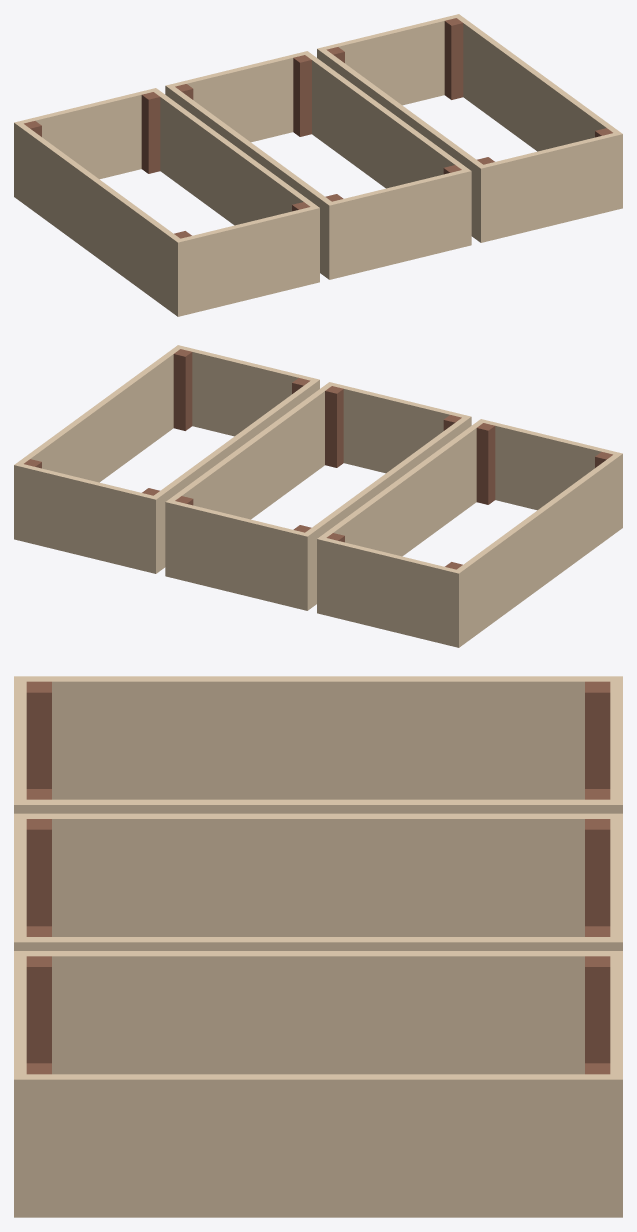
The model's file is Garden_Beds_01.glb.
3 views of the same model, one above another, from view 1: azimuth 30°, elevation 25°; view 2: azimuth 150°, elevation 25°; view 3: azimuth 270°, elevation 25° (orthographic). The views are drawn at different scales.
Visible parts, largest first — view 1: 2x6in Board.034, 2x6in Board.142, 2x6in Board.036, 2x6in Board.158, 2x6in Board.022, 2x6in Board.026, 2x6in Board.030, 2x6in Board.143, 2x6in Board.159, 2x6in Board.037, 2x6in Board.140, 2x6in Board.156 (+33 smaller); view 2: 2x6in Board.034, 2x6in Board.142, 2x6in Board.036, 2x6in Board.158, 2x6in Board.022, 2x6in Board.026, 2x6in Board.030, 2x6in Board.141, 2x6in Board.157, 2x6in Board.035, 2x6in Board.140, 2x6in Board.156 (+33 smaller); view 3: 2x6in Board.158, 2x6in Board.034, 2x6in Board.140, 2x6in Board.156, 2x6in Board.146, 2x6in Board.150, 2x6in Board.154, 2x6in Board.026, 2x6in Board.152, 2x6in Board.030, 2x6in Board.132, 2x6in Board.136 (+18 smaller).
Part boxes in pixels (x1=…): 2x6in Board.034: x1=14, y1=121, x2=183, y2=260; 2x6in Board.142: x1=302, y1=51, x2=471, y2=190; 2x6in Board.036: x1=150, y1=88, x2=319, y2=227; 2x6in Board.158: x1=453, y1=14, x2=622, y2=153; 2x6in Board.022: x1=14, y1=178, x2=183, y2=316; 2x6in Board.026: x1=14, y1=160, x2=183, y2=298; 2x6in Board.030: x1=14, y1=141, x2=183, y2=279; 2x6in Board.143: x1=332, y1=170, x2=465, y2=222; 2x6in Board.159: x1=484, y1=133, x2=616, y2=185; 2x6in Board.037: x1=181, y1=207, x2=313, y2=259; 2x6in Board.140: x1=165, y1=84, x2=335, y2=224; 2x6in Board.156: x1=317, y1=47, x2=486, y2=187; 2x6in Board.034: x1=453, y1=452, x2=622, y2=591; 2x6in Board.142: x1=165, y1=382, x2=334, y2=521; 2x6in Board.036: x1=317, y1=419, x2=486, y2=558; 2x6in Board.158: x1=14, y1=345, x2=183, y2=484; 2x6in Board.022: x1=453, y1=509, x2=622, y2=647; 2x6in Board.026: x1=453, y1=491, x2=622, y2=629; 2x6in Board.030: x1=453, y1=472, x2=622, y2=610; 2x6in Board.141: x1=171, y1=501, x2=304, y2=553; 2x6in Board.157: x1=20, y1=464, x2=152, y2=516; 2x6in Board.035: x1=323, y1=538, x2=455, y2=590; 2x6in Board.140: x1=301, y1=415, x2=471, y2=555; 2x6in Board.156: x1=150, y1=378, x2=319, y2=518; 2x6in Board.158: x1=14, y1=1074, x2=622, y2=1113; 2x6in Board.034: x1=14, y1=676, x2=622, y2=716; 2x6in Board.140: x1=14, y1=813, x2=622, y2=853; 2x6in Board.156: x1=14, y1=951, x2=622, y2=990; 2x6in Board.146: x1=14, y1=1183, x2=622, y2=1217; 2x6in Board.150: x1=14, y1=1148, x2=622, y2=1182; 2x6in Board.154: x1=14, y1=1114, x2=622, y2=1148; 2x6in Board.026: x1=52, y1=750, x2=584, y2=785; 2x6in Board.152: x1=52, y1=990, x2=584, y2=1025; 2x6in Board.030: x1=52, y1=716, x2=584, y2=750; 2x6in Board.132: x1=52, y1=888, x2=584, y2=922; 2x6in Board.136: x1=52, y1=853, x2=584, y2=887.
Bounding box in the file's own units: 3.82 × 0.6096 × 2.44.
